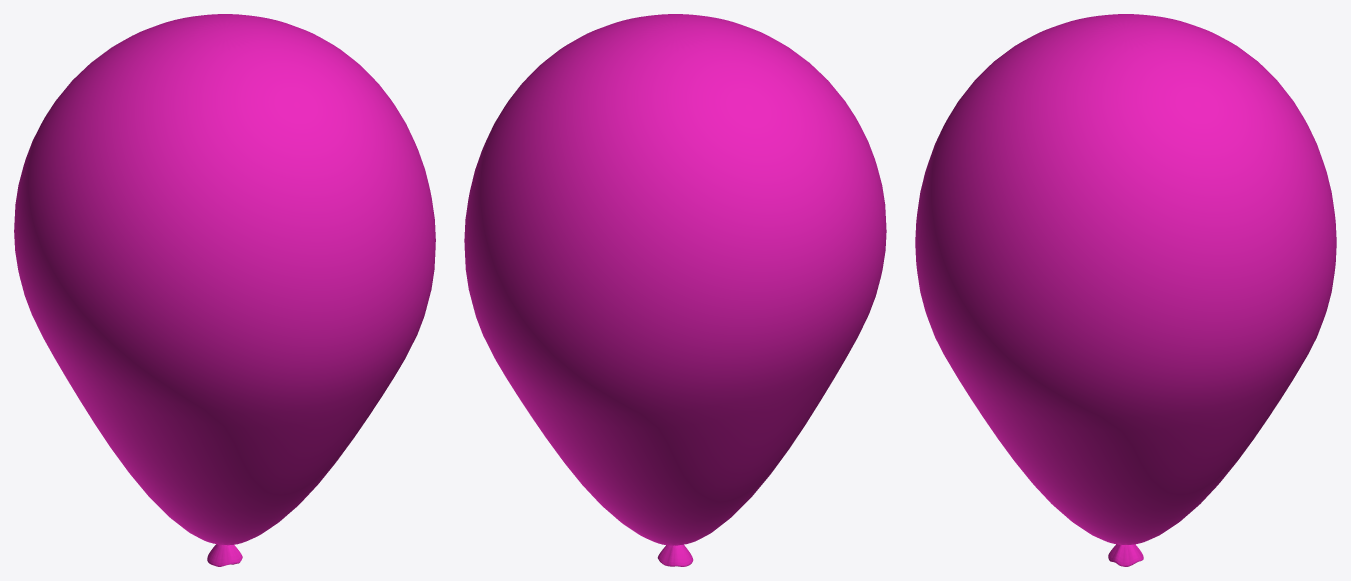
The model's file is BalloonOhneSchnur_pink.fbx.
3 renders of one model, left to right at view 1: azimuth 30°, elevation 25°; view 2: azimuth 150°, elevation 25°; view 3: azimuth 270°, elevation 25°, orthographic.
Visible parts, largest first — view 1: Sphere, Cone; view 2: Sphere, Cone; view 3: Sphere, Cone.
Boxes of the visible parts, x1,y1,x2,y2 form: Sphere: [14, 14, 435, 545]; Cone: [207, 544, 242, 566]; Sphere: [464, 14, 886, 545]; Cone: [657, 544, 693, 566]; Sphere: [915, 14, 1336, 544]; Cone: [1108, 544, 1143, 566].
Size of the model in its own units: 197 by 272 by 197.
